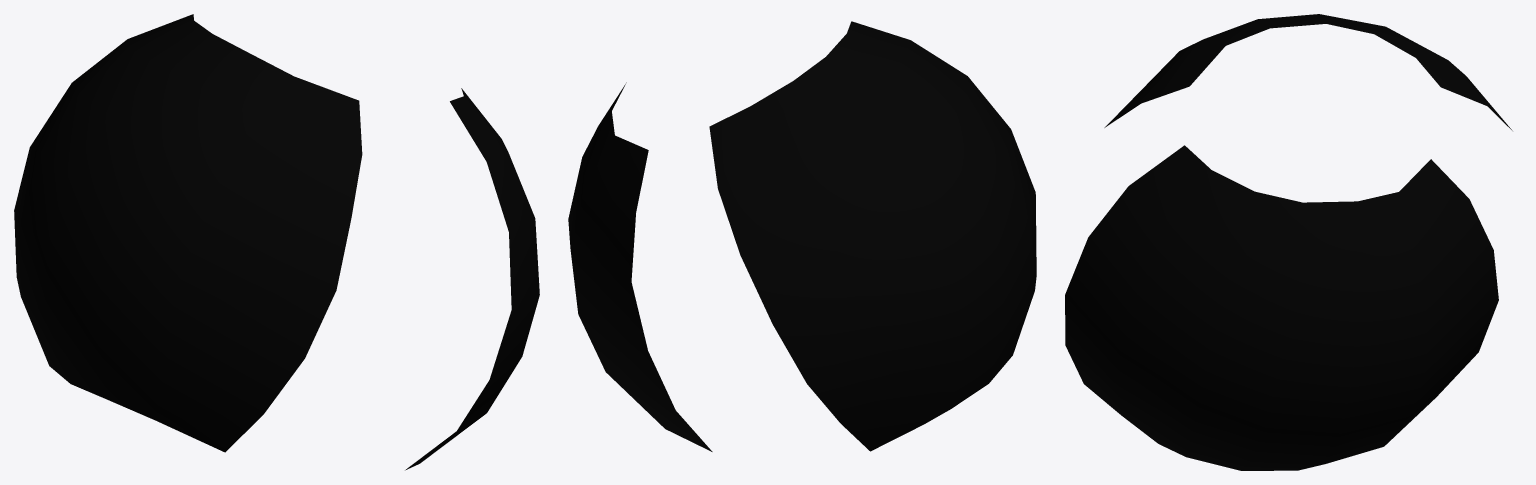
The model's file is bubble_solid_mountain2.glb.
3 renders of one model, left to right at view 1: azimuth 30°, elevation 25°; view 2: azimuth 150°, elevation 25°; view 3: azimuth 270°, elevation 25°, orthographic. The views are drawn at different scales.
Visible parts, largest first — view 1: bubble_solid_texture.png__; view 2: bubble_solid_texture.png__; view 3: bubble_solid_texture.png__.
Boxes of the visible parts, x1=… form: bubble_solid_texture.png__: x1=14, y1=14, x2=539, y2=470; bubble_solid_texture.png__: x1=568, y1=21, x2=1036, y2=451; bubble_solid_texture.png__: x1=1065, y1=14, x2=1512, y2=470.
Bounding box in the file's own units: 8.14 × 7.48 × 7.94.
Materials: 1 (1 with a texture image).
